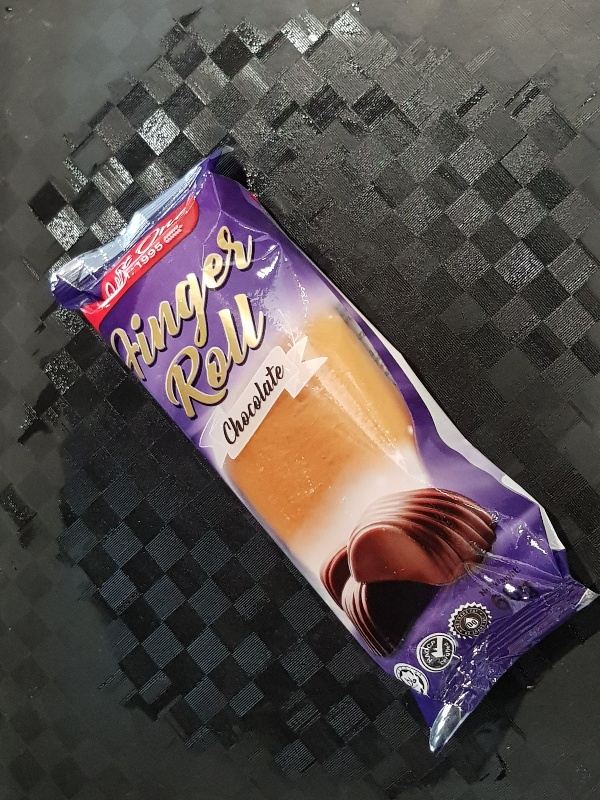Tinges Roll Chocolate: (43, 145, 598, 755)
